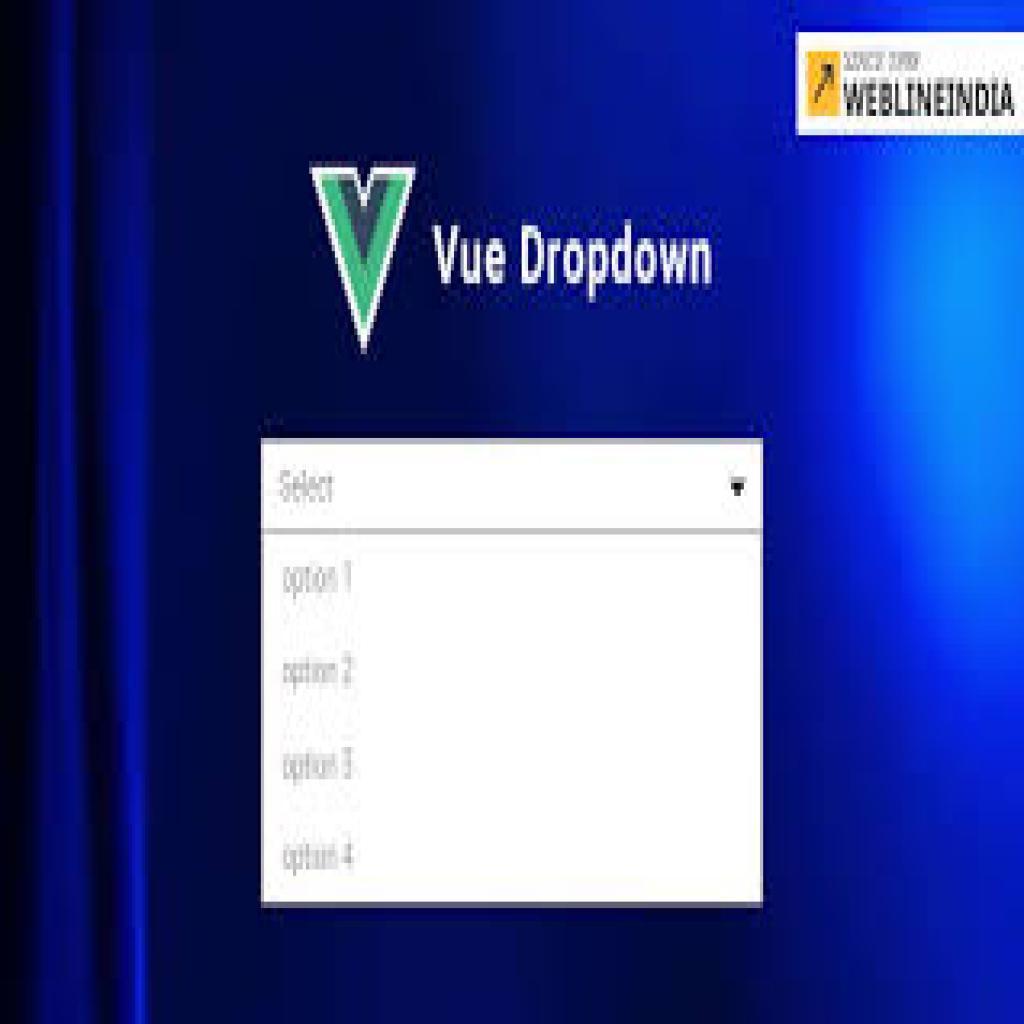dropdown: (263, 440, 765, 532)
icon: (305, 128, 428, 373)
